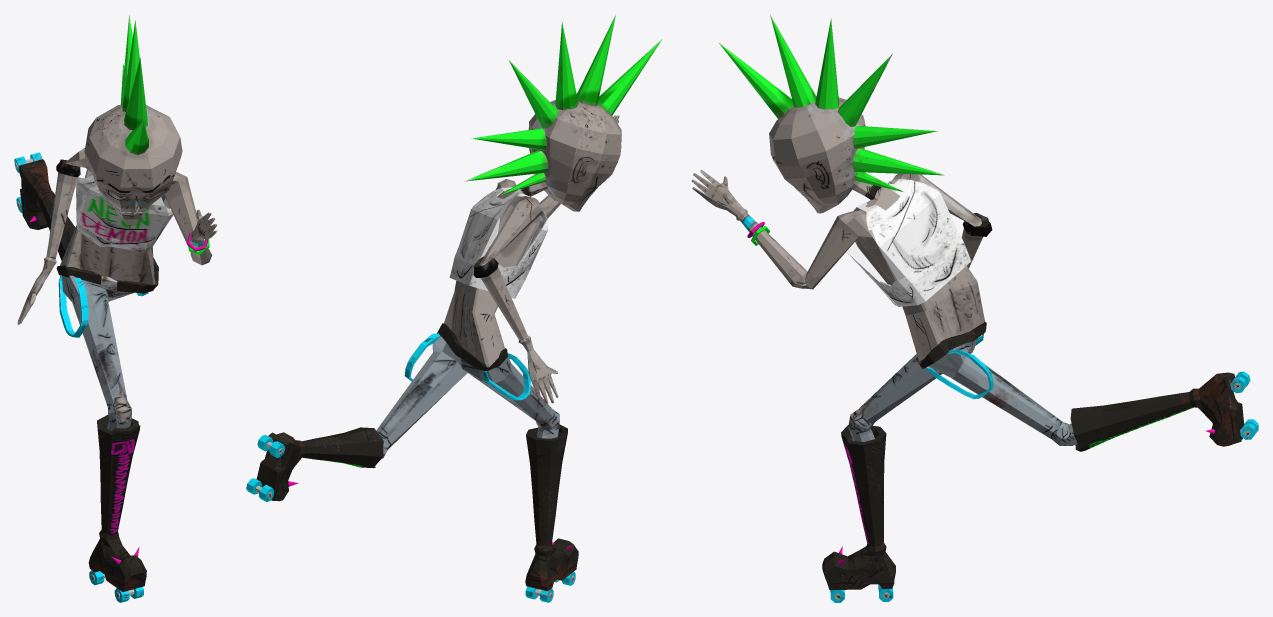
Rendered from punkAnimation_000034.obj.
3 views of the same model, side by side, from view 1: azimuth 30°, elevation 25°; view 2: azimuth 150°, elevation 25°; view 3: azimuth 270°, elevation 25° (orthographic). The views are drawn at different scales.
Visible parts, largest first — view 1: Cube.004_Cube.003; view 2: Cube.004_Cube.003; view 3: Cube.004_Cube.003.
Boxes of the visible parts, left/top/right/bottom form: Cube.004_Cube.003: left=14, top=15, right=217, bottom=602; Cube.004_Cube.003: left=246, top=15, right=661, bottom=602; Cube.004_Cube.003: left=691, top=14, right=1258, bottom=602.
Size of the model in its own units: 2.08 by 6.66 by 5.89.
